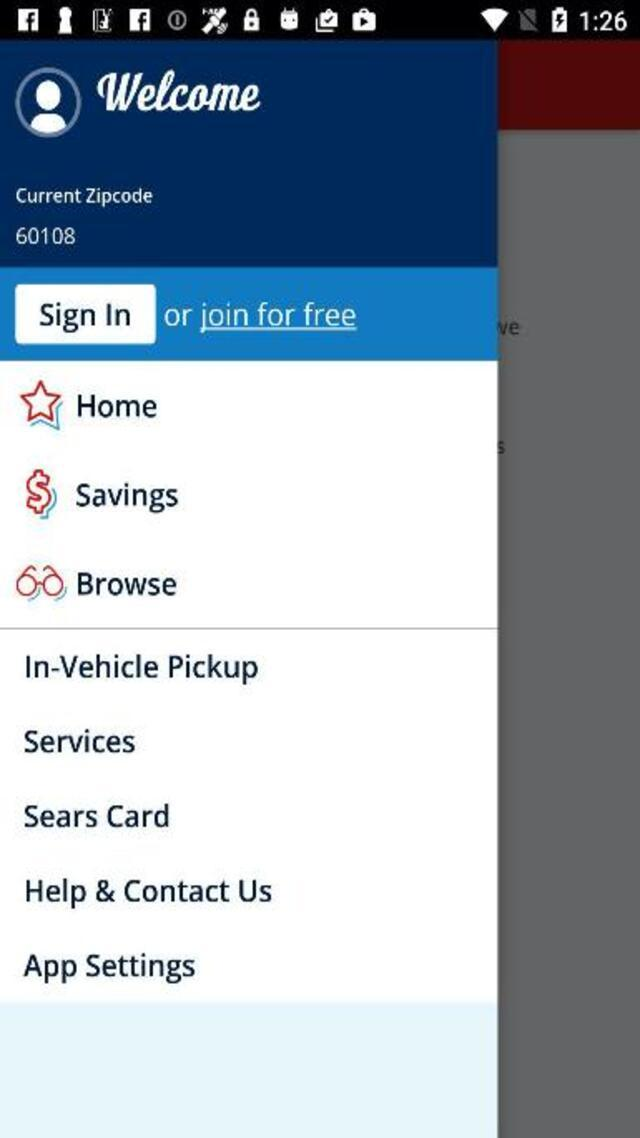Icon: (15, 68, 80, 138), (20, 380, 63, 430)
Image: (16, 565, 68, 601), (26, 470, 58, 520)
Text: (26, 876, 272, 908), (25, 652, 258, 684), (98, 70, 261, 111), (165, 300, 358, 333), (22, 953, 194, 982), (24, 802, 169, 827), (78, 482, 178, 514), (17, 187, 153, 208), (24, 729, 136, 754), (78, 572, 176, 594), (76, 394, 156, 417), (16, 228, 74, 246)
TextButton: (15, 284, 155, 344)
